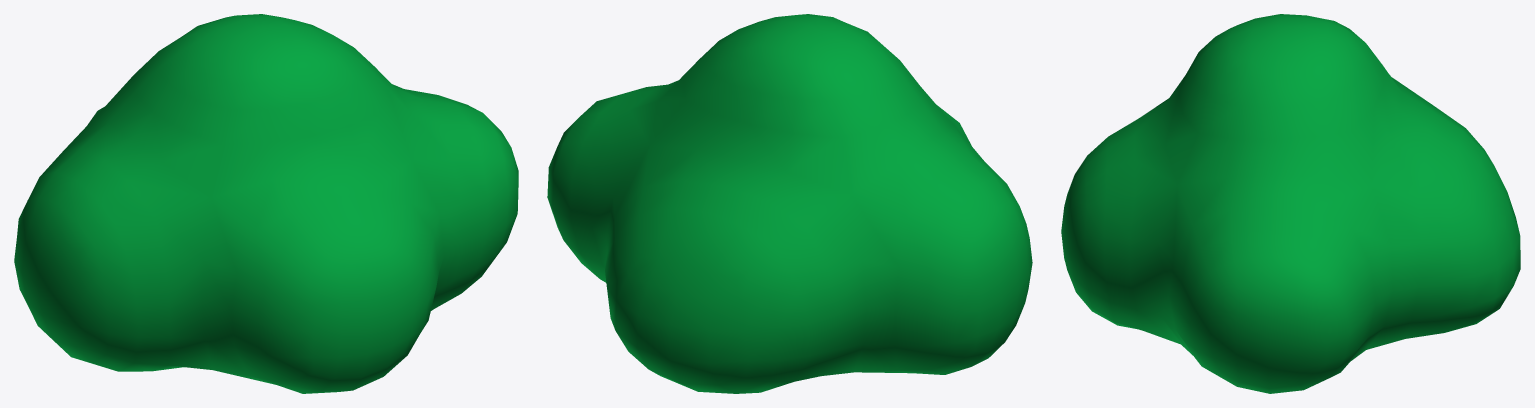
File: Farm_13_Bush_1.glb
3 views of the same model, side by side, from view 1: azimuth 30°, elevation 25°; view 2: azimuth 150°, elevation 25°; view 3: azimuth 270°, elevation 25° (orthographic). The views are drawn at different scales.
Visible parts, largest first — view 1: Farm_13_Bush_1; view 2: Farm_13_Bush_1; view 3: Farm_13_Bush_1.
Part boxes in pixels (x1,y1,x2,y2): Farm_13_Bush_1: (14,14,518,393); Farm_13_Bush_1: (547,14,1032,393); Farm_13_Bush_1: (1061,14,1520,393).
Bounding box in the file's own units: 1.5 × 0.9544 × 1.35.
Materials: 1 (1 with a texture image).
